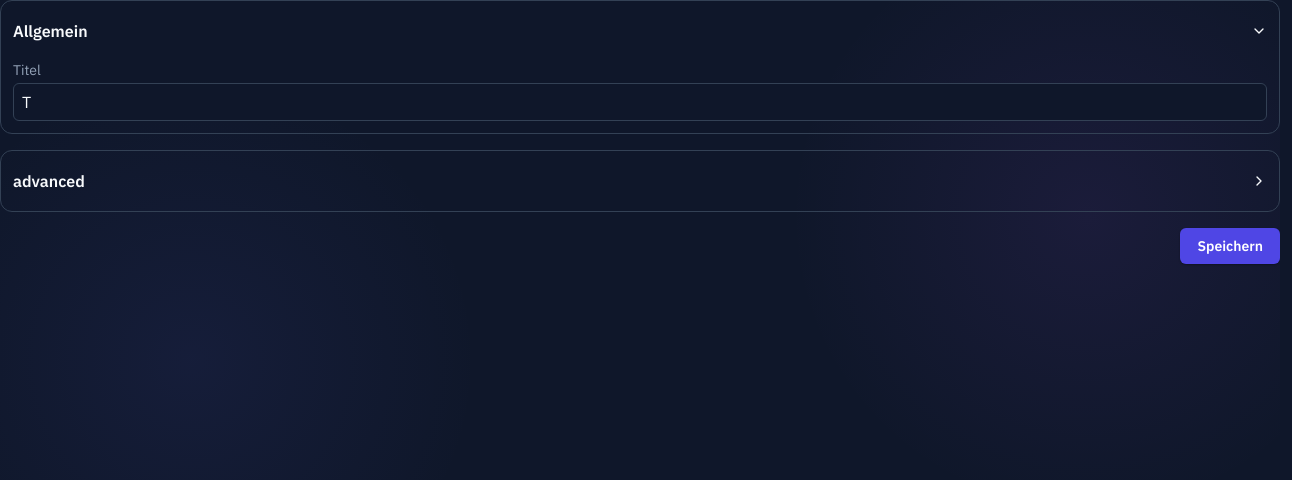
Test: ArtifactForm › collapses an all-expert section by default
Expected: the field with test id "artifact-field-title" is shown, [13,83,1267,121]
Click the button with test id "artifact-section-toggle-advanced". click: coordinates (49, 181)
box: [13,163,1267,199]
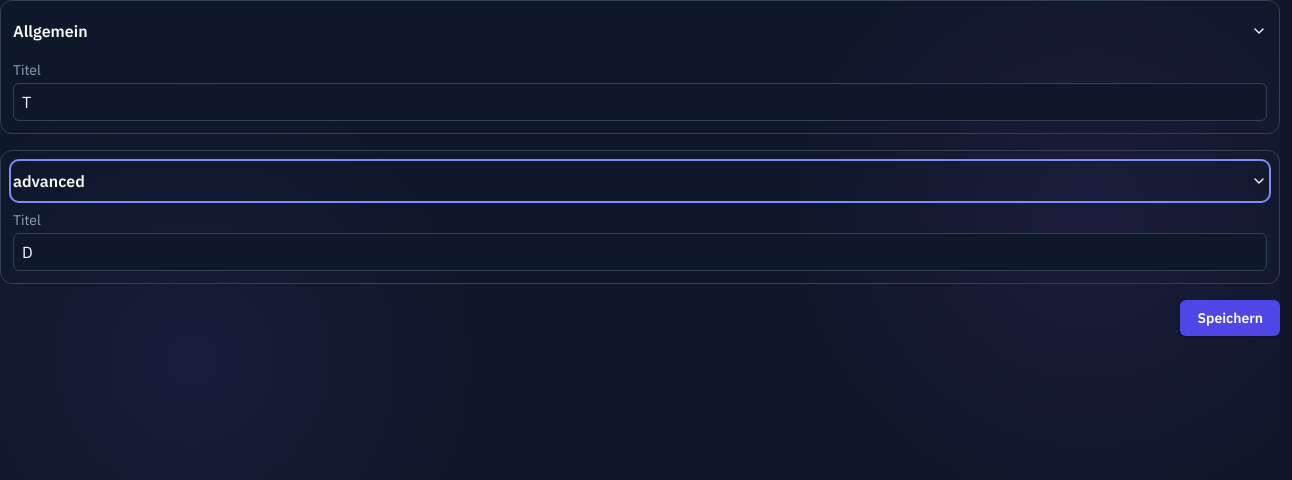
Expected: the field with test id "artifact-field-deep" is shown, [13,233,1267,271]
